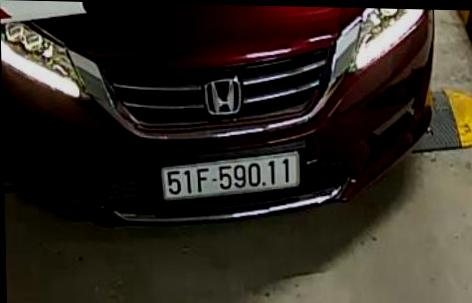License_Plate: (158, 145, 303, 203)
